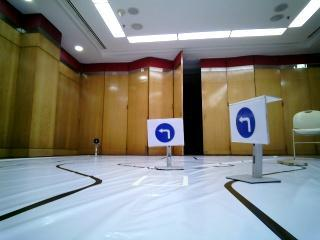left: (232, 104, 269, 143), (148, 120, 182, 145)
